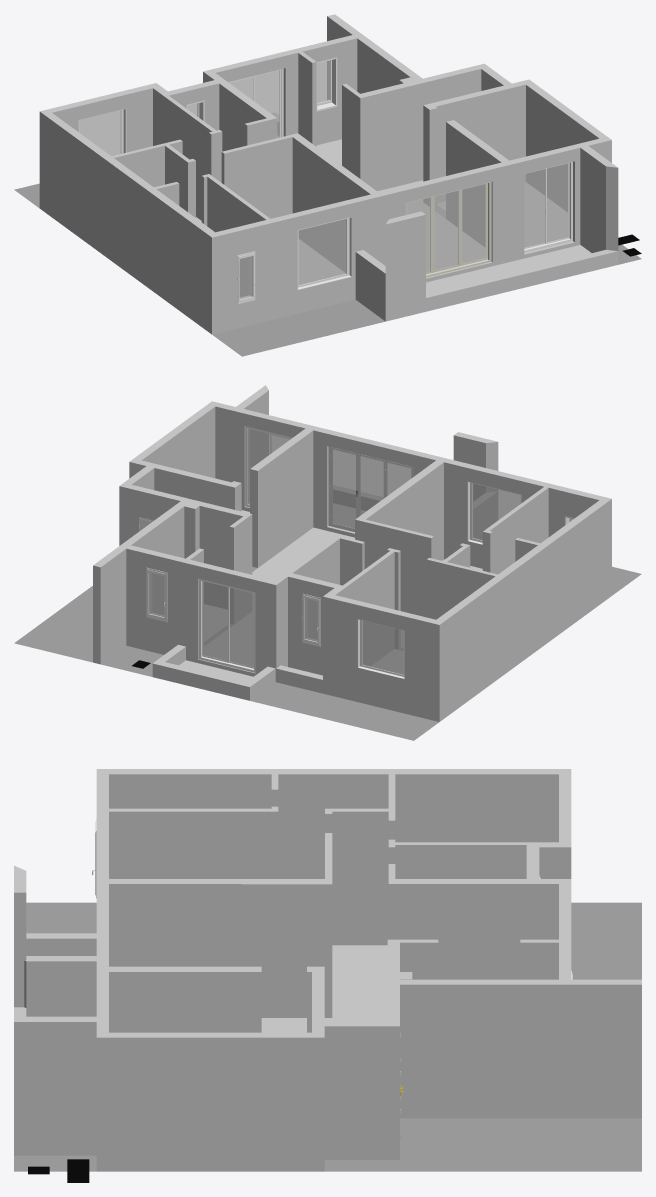
The model's file is FloorPlan-origin.obj.
3 renders of one model, top to bottom at view 1: azimuth 30°, elevation 25°; view 2: azimuth 150°, elevation 25°; view 3: azimuth 270°, elevation 25°, orthographic. The views are drawn at different scales.
Parts seen in each view (by area): view 1: wall_45_269, wall_42_251, wall_47_280, ground_1, wall_1_4, wall_43_257, wall_64_382, wall_13_77, wall_31_184, wall_41_245, wall_50_299, wall_51_304 (+53 smaller); view 2: wall_42_251, ground_1, wall_39_233, wall_45_268, wall_43_257, wall_64_383, wall_23_137, wall_41_245, wall_8_46, wall_53_316, wall_61_364, wall_13_77 (+47 smaller); view 3: wall_13_76, ground_1, wall_19_113, wall_42_250, wall_31_185, wall_67_401, wall_50_298, wall_4_23, wall_53_317, wall_66_395, wall_30_179, wall_28_166 (+24 smaller).
Boxes of the visible parts, x1,y1,x2,y2 form: wall_45_269: [225, 197, 379, 331]; wall_42_251: [74, 137, 167, 301]; wall_47_280: [360, 83, 423, 191]; ground_1: [14, 183, 641, 356]; wall_1_4: [436, 84, 525, 202]; wall_43_257: [168, 205, 211, 334]; wall_64_382: [223, 137, 292, 218]; wall_13_77: [526, 85, 598, 211]; wall_31_184: [292, 137, 338, 266]; wall_41_245: [39, 112, 73, 233]; wall_50_299: [580, 148, 611, 252]; wall_51_304: [419, 251, 618, 312]; wall_42_251: [473, 531, 567, 696]; ground_1: [14, 566, 641, 740]; wall_39_233: [330, 598, 428, 719]; wall_45_268: [444, 462, 594, 568]; wall_43_257: [567, 499, 611, 627]; wall_64_383: [355, 519, 432, 617]; wall_23_137: [131, 550, 177, 654]; wall_41_245: [439, 600, 473, 721]; wall_8_46: [281, 431, 313, 550]; wall_53_316: [97, 549, 126, 664]; wall_61_364: [347, 552, 394, 665]; wall_13_77: [142, 407, 215, 478]; wall_13_76: [109, 1037, 324, 1171]; ground_1: [14, 902, 641, 1171]; wall_19_113: [415, 984, 558, 1118]; wall_42_250: [218, 774, 476, 878]; wall_31_185: [198, 884, 332, 1017]; wall_67_401: [109, 811, 278, 878]; wall_50_298: [14, 1022, 96, 1155]; wall_4_23: [324, 1026, 399, 1159]; wall_53_317: [565, 984, 641, 1118]; wall_66_395: [332, 811, 388, 945]; wall_30_179: [109, 884, 198, 966]; wall_28_166: [388, 884, 477, 979].
Bounding box in the file's own units: 1278 × 284 × 1209.
26 materials, 10 textured.
